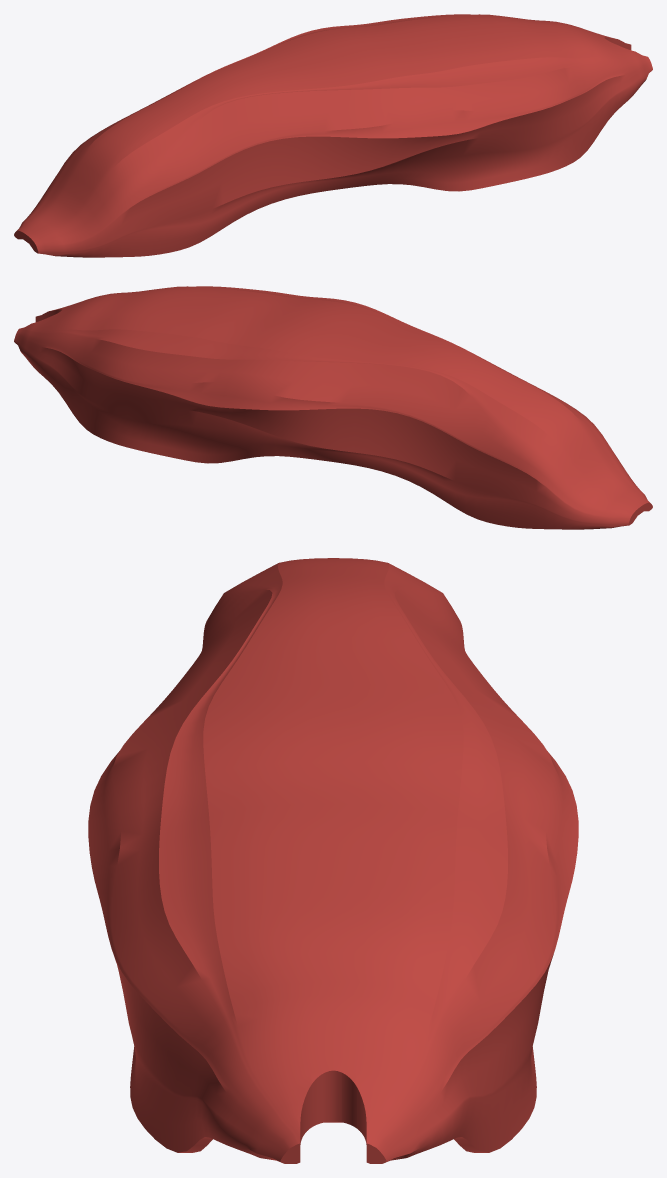
The model's file is race_lod1.glb.
3 renders of one model, top to bottom at view 1: azimuth 30°, elevation 25°; view 2: azimuth 150°, elevation 25°; view 3: azimuth 270°, elevation 25°, orthographic. The views are drawn at different scales.
Parts seen in each view (by area): view 1: race_lod1; view 2: race_lod1; view 3: race_lod1.
Part boxes in pixels (left/top/right/bottom): race_lod1: left=14, top=14, right=652, bottom=257; race_lod1: left=14, top=286, right=652, bottom=529; race_lod1: left=88, top=558, right=578, bottom=1163.
Bounding box in the file's own units: 1.07 × 0.2107 × 0.3686.
